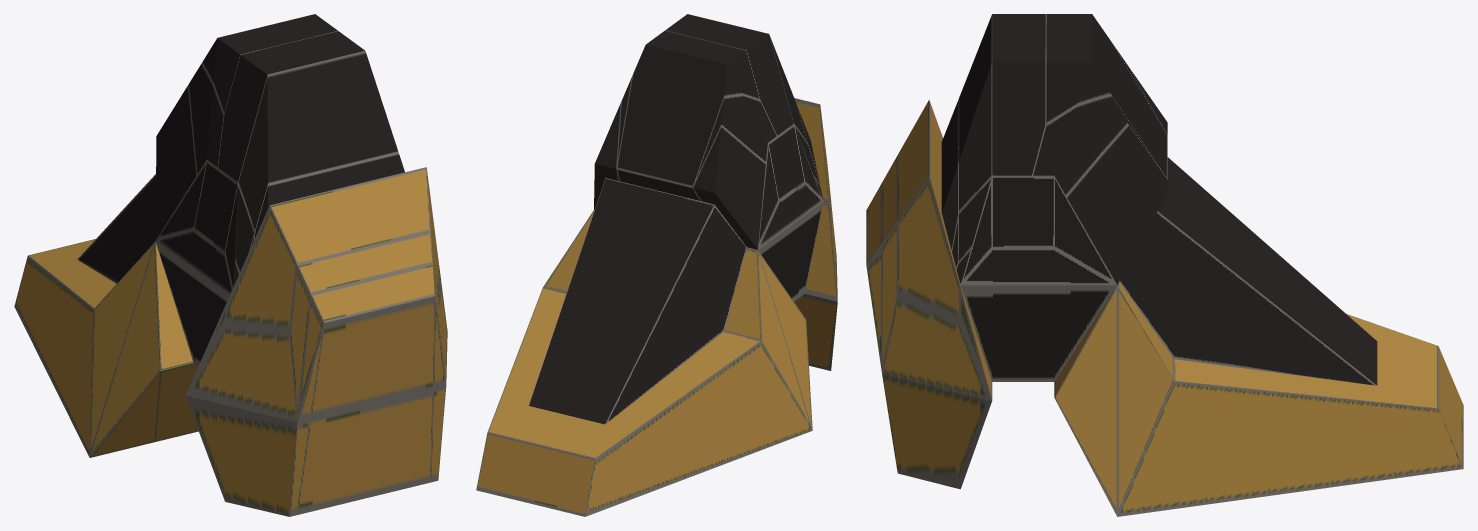
The model's file is LShoes.fbx.
3 views of the same model, side by side, from view 1: azimuth 30°, elevation 25°; view 2: azimuth 150°, elevation 25°; view 3: azimuth 270°, elevation 25° (orthographic). The views are drawn at different scales.
Visible parts, largest first — view 1: Shape_IndexedFaceSet.056, Shape_IndexedFaceSet.054, Shape_IndexedFaceSet.055; view 2: Shape_IndexedFaceSet.056, Shape_IndexedFaceSet.055, Shape_IndexedFaceSet.054; view 3: Shape_IndexedFaceSet.056, Shape_IndexedFaceSet.055, Shape_IndexedFaceSet.054.
Part boxes in pixels (x1,y1,x2,y2): Shape_IndexedFaceSet.056: (14, 167, 447, 516); Shape_IndexedFaceSet.054: (155, 14, 404, 283); Shape_IndexedFaceSet.055: (77, 159, 237, 366); Shape_IndexedFaceSet.056: (476, 98, 837, 516); Shape_IndexedFaceSet.055: (528, 124, 823, 424); Shape_IndexedFaceSet.054: (594, 14, 823, 249); Shape_IndexedFaceSet.056: (866, 100, 1463, 516); Shape_IndexedFaceSet.055: (960, 157, 1377, 385); Shape_IndexedFaceSet.054: (941, 14, 1167, 284).
Size of the model in its own units: 0.1521 by 0.1779 by 0.2411.
